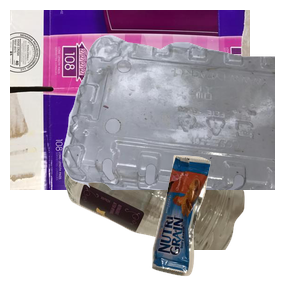cardboard: (10, 10, 250, 190)
glass: (62, 120, 300, 300)
plastic: (60, 32, 300, 212)
trash: (149, 152, 300, 300)
